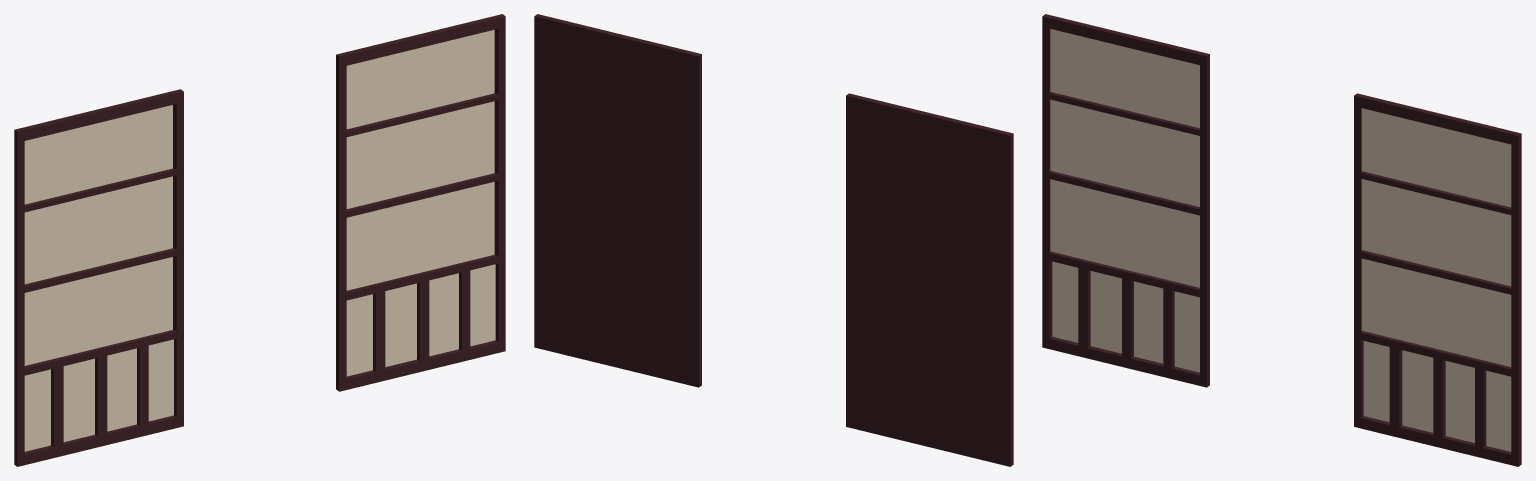
File: postoffice_door_open.fbx
3 views of the same model, side by side, from view 1: azimuth 30°, elevation 25°; view 2: azimuth 150°, elevation 25°; view 3: azimuth 330°, elevation 25° (orthographic).
Visible parts, largest first — view 1: postoffice:polySurface1230, postoffice:polySurface1235; view 2: postoffice:polySurface1230, postoffice:polySurface1235; view 3: postoffice:polySurface1230, postoffice:polySurface1235.
Boxes of the visible parts, x1,y1,x2,y2 form: postoffice:polySurface1230: (336, 14, 505, 391); postoffice:polySurface1235: (14, 89, 183, 466); postoffice:polySurface1230: (534, 14, 701, 387); postoffice:polySurface1235: (846, 93, 1013, 466); postoffice:polySurface1230: (1354, 93, 1521, 466); postoffice:polySurface1235: (1042, 14, 1209, 387).
Bounding box in the file's own units: 24.61 × 16.24 × 0.5879.
1 material, 1 textured.
